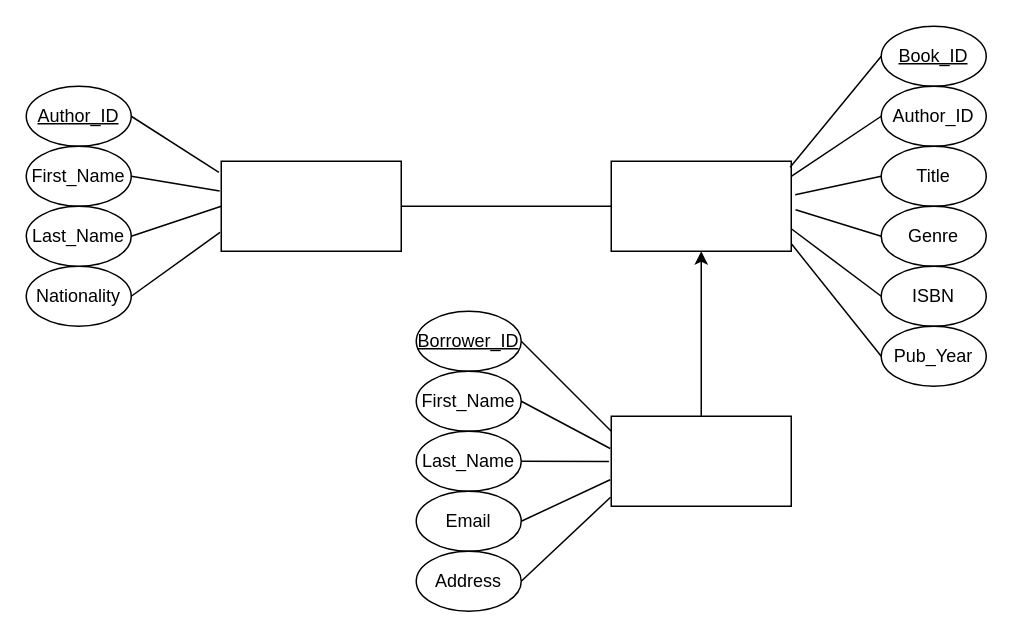
Some shapes in this 1013 by 638 pixel diagram are drawn without their labels. The centre of each missing label's shape, as x and y in pixels:
"Author" goes at pixel 310 205.
"Book" goes at pixel 700 205.
"Borrower" goes at pixel 700 460.
